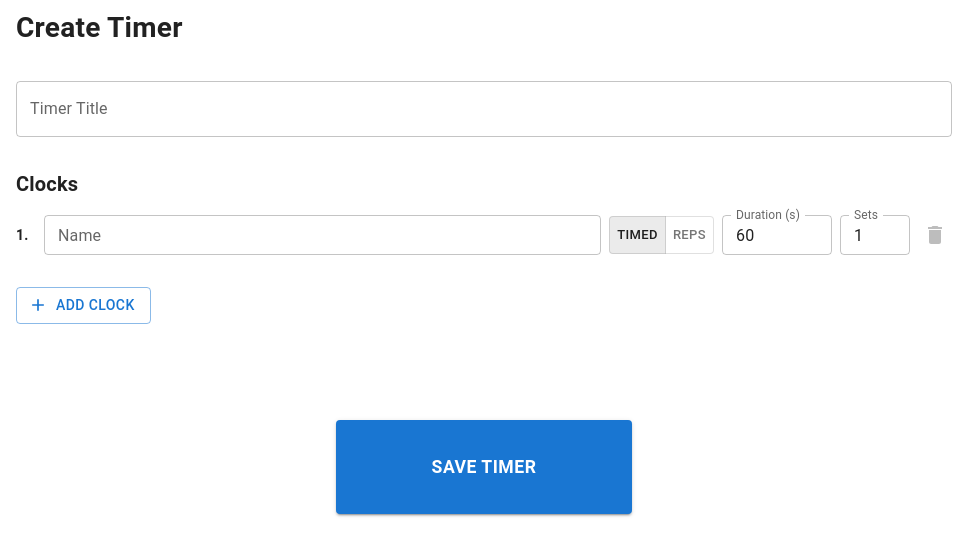
Test: CreateTimer › switches to Reps input when Reps toggle is clicked
This screenshot has width=969, height=534.
Click the button "Reps": (689, 235) [665,216,714,254]
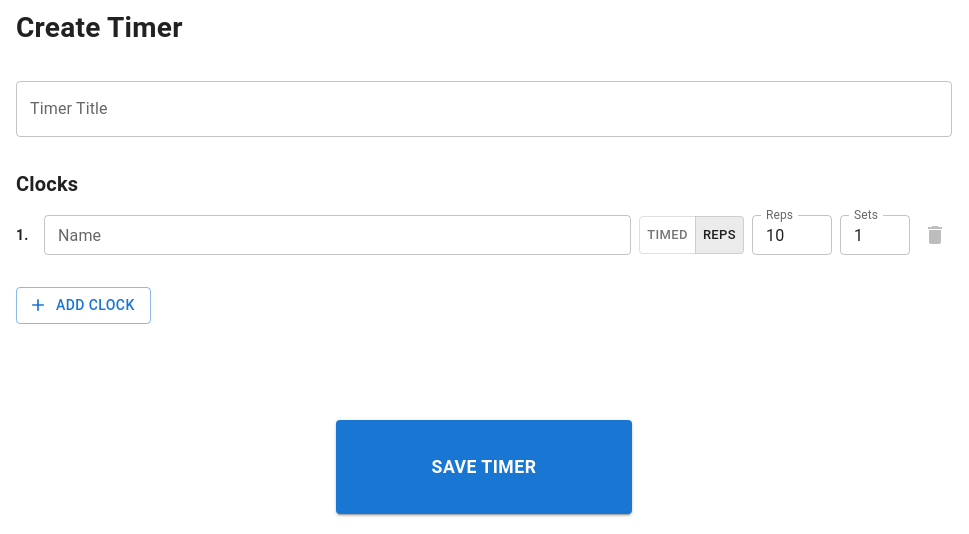
Expected: the number field labelled "Reps" is shown, [752,215,832,255]
Result: the label labelled "Duration (s)" is gone
